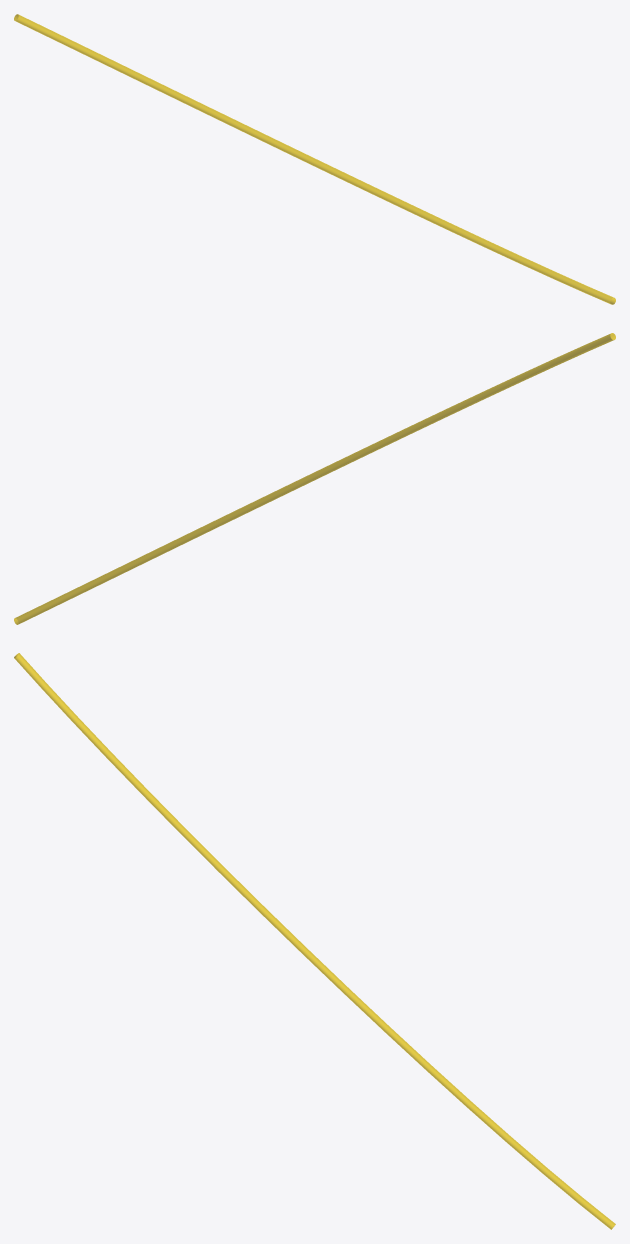
Rendered from Event_27938768_track_0.fbx.
The picture shows the model from 3 angles, top to bottom: view 1: azimuth 30°, elevation 25°; view 2: azimuth 150°, elevation 25°; view 3: azimuth 330°, elevation 25°; orthographic projection.
Parts seen in each view (by area): view 1: Model; view 2: Model; view 3: Model.
Boxes of the visible parts, <box> form: Model: <box>14,14,615,304</box>; Model: <box>14,333,615,624</box>; Model: <box>14,653,615,1229</box>.
Bounding box in the file's own units: 3.72 × 2.58 × 0.1784.
